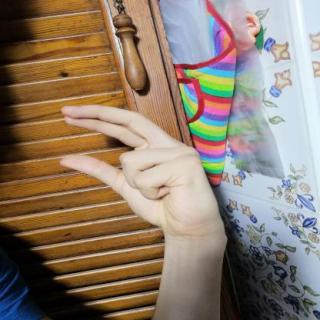DHELL: (46, 98, 236, 240)
